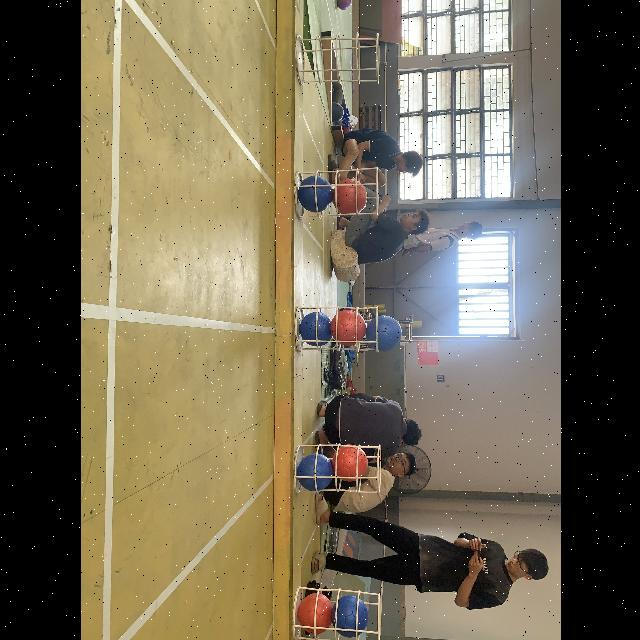B: (331, 596, 367, 638), (365, 314, 401, 352), (296, 175, 332, 212), (296, 453, 330, 491), (298, 312, 330, 346)
R: (297, 592, 331, 634), (331, 444, 367, 482), (329, 308, 365, 346), (332, 178, 366, 216)
